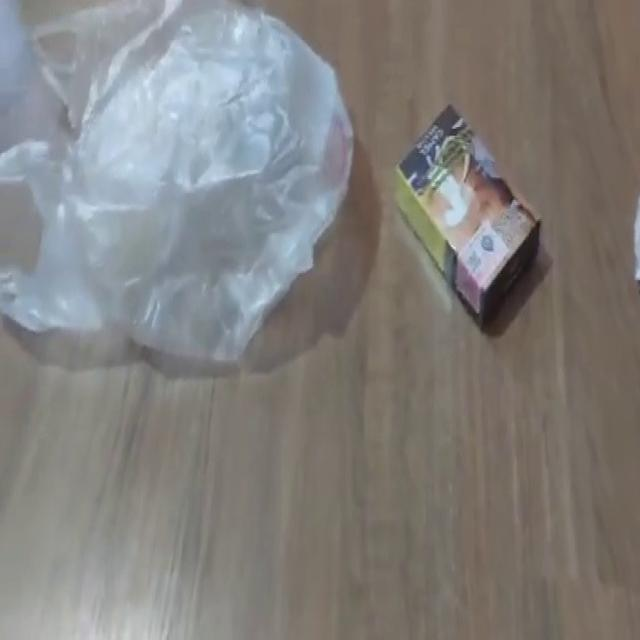Anorganik: (1, 2, 356, 370)
Organik: (391, 98, 543, 342)
